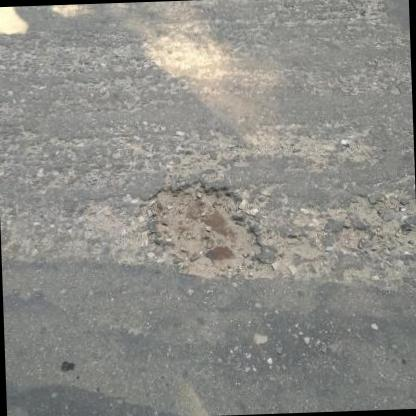pothole: (137, 175, 271, 286), (333, 190, 416, 258)
